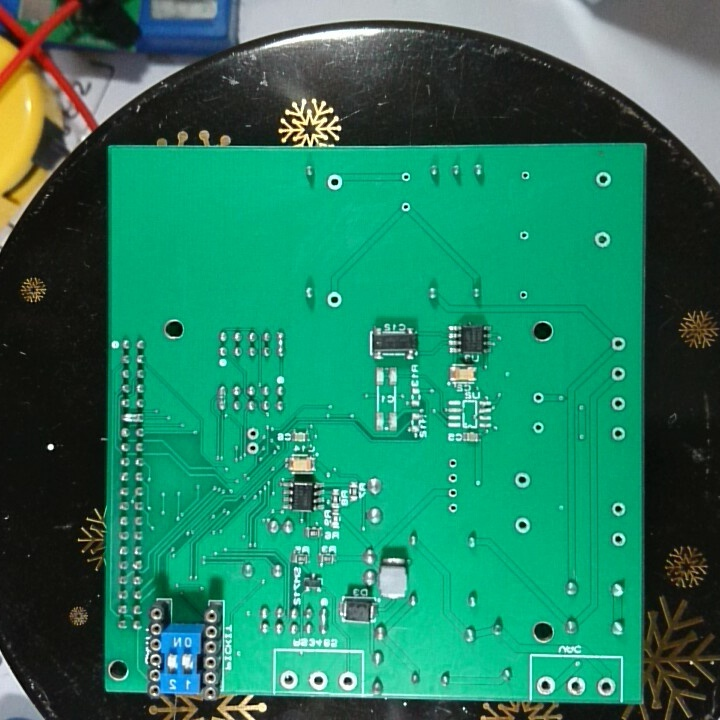F: (533, 672, 557, 698), (564, 674, 587, 699), (593, 168, 616, 192), (279, 669, 301, 691), (596, 674, 616, 698), (337, 669, 357, 692), (308, 669, 328, 692), (513, 515, 534, 536), (593, 229, 612, 252), (324, 289, 343, 311), (325, 172, 345, 192), (513, 470, 532, 491), (609, 530, 628, 550), (610, 423, 628, 444), (609, 334, 627, 354), (609, 394, 627, 414), (609, 500, 627, 518), (610, 364, 627, 383), (516, 227, 533, 244), (244, 441, 261, 457), (531, 421, 547, 437), (445, 499, 460, 516), (245, 426, 262, 441), (531, 390, 546, 406), (399, 170, 414, 186), (517, 287, 530, 304), (445, 486, 460, 500), (400, 200, 413, 216), (519, 167, 532, 183), (446, 472, 461, 485), (447, 456, 460, 470)
P: (273, 328, 289, 360), (317, 606, 333, 638), (119, 411, 146, 425), (216, 383, 228, 412)
